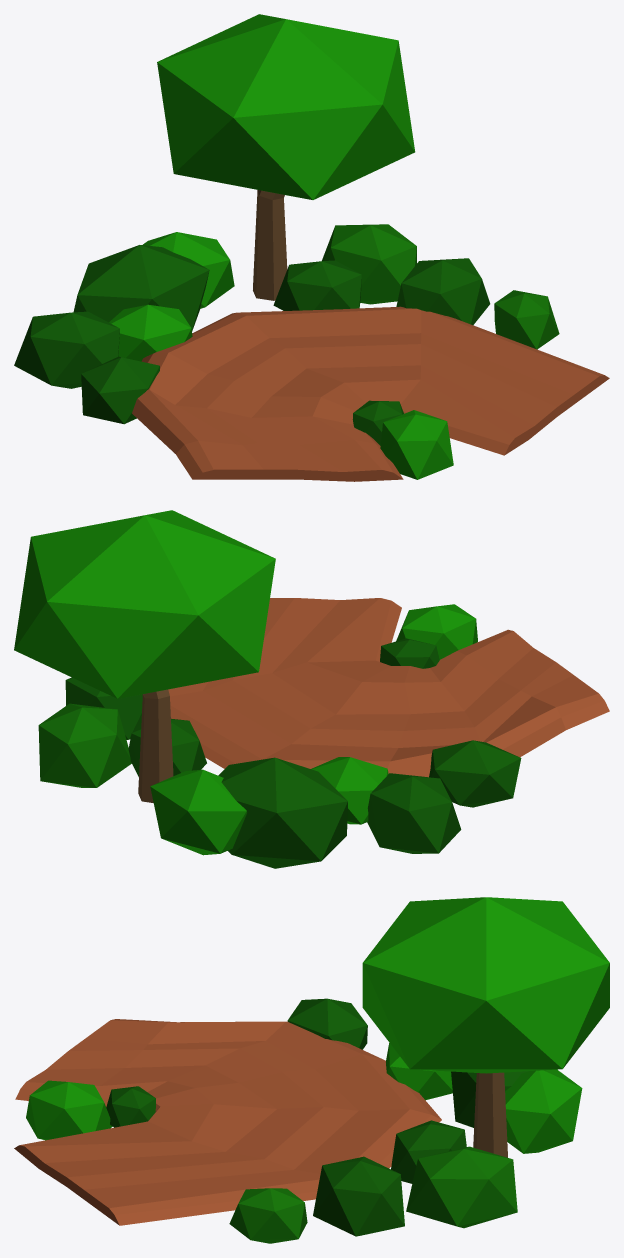
File: street3_01_3.fbx
3 renders of one model, top to bottom at view 1: azimuth 30°, elevation 25°; view 2: azimuth 150°, elevation 25°; view 3: azimuth 270°, elevation 25°, orthographic.
Parts seen in each view (by area): view 1: redRoad01.002, tree.001, bush.010, bush.008, bush, bush.004, bush.005, bush.003, bush.002, bush.001, bush.009, bush.007 (+1 smaller); view 2: redRoad01.002, tree.001, bush.010, bush, bush.007, bush.008, bush.002, bush.005, bush.001, bush.003, bush.004, bush.006; view 3: redRoad01.002, tree.001, bush, bush.004, bush.007, bush.005, bush.009, bush.002, bush.003, bush.001, bush.006, bush.010.
Part boxes in pixels (x1,y1,x2,y2): redRoad01.002: (132, 306, 609, 481); tree.001: (157, 14, 415, 300); bush.010: (73, 245, 209, 331); bush.008: (14, 311, 119, 388); bush: (322, 224, 416, 304); bush.004: (396, 258, 490, 325); bush.005: (380, 410, 453, 479); bush.003: (273, 260, 361, 310); bush.002: (81, 356, 159, 424); bush.001: (109, 304, 192, 361); bush.009: (494, 290, 559, 349); bush.007: (143, 232, 234, 308); redRoad01.002: (168, 598, 609, 777); tree.001: (14, 510, 275, 802); bush.010: (218, 757, 347, 868); bush: (38, 703, 131, 787); bush.007: (150, 769, 246, 855); bush.008: (367, 773, 461, 853); bush.002: (429, 740, 521, 807); bush.005: (396, 604, 477, 659); bush.001: (311, 757, 388, 824); bush.003: (128, 718, 206, 776); bush.004: (65, 677, 142, 739); bush.006: (380, 638, 439, 668); redRoad01.002: (14, 1019, 441, 1225); tree.001: (362, 897, 609, 1157); bush: (406, 1146, 517, 1228); bush.004: (313, 1156, 404, 1236); bush.007: (505, 1069, 582, 1153); bush.005: (26, 1080, 112, 1140); bush.009: (229, 1188, 307, 1243); bush.002: (287, 998, 367, 1049); bush.003: (391, 1120, 466, 1183); bush.001: (386, 1043, 452, 1100); bush.006: (106, 1086, 155, 1127); bush.010: (451, 1071, 528, 1127).
Size of the model in its own units: 84.08 by 56.44 by 98.68.
